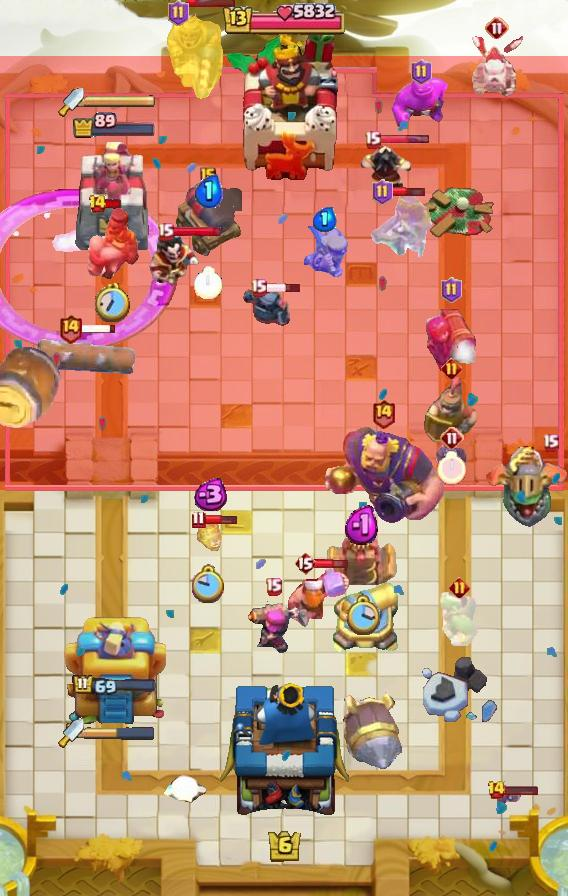arrows: (303, 225, 350, 279)
bar: (62, 611, 166, 731), (73, 140, 155, 256)
barbarian-barrel: (435, 444, 469, 472), (497, 787, 523, 805)
barbarian-hut: (360, 190, 434, 258)
bat: (162, 773, 210, 803)
battle-ram: (242, 285, 294, 329)
clock: (221, 0, 347, 40)
dirt: (0, 344, 64, 430)
earthquake: (424, 377, 478, 445)
electro-spirit: (343, 506, 381, 547), (189, 477, 229, 510), (193, 174, 222, 208), (313, 208, 337, 233)
elite-barbarian: (82, 206, 142, 280)
elixir: (344, 595, 380, 637), (94, 283, 130, 322), (192, 565, 226, 604), (438, 451, 467, 485), (193, 266, 222, 298)
emote: (170, 226, 221, 239), (378, 134, 430, 146), (390, 186, 426, 199), (314, 557, 350, 570), (265, 282, 303, 294), (202, 514, 238, 526), (503, 784, 539, 796), (79, 322, 116, 333), (186, 0, 236, 8), (104, 198, 123, 210)
flying-machine: (437, 590, 481, 646)
goblin-brawler: (327, 520, 397, 588)
ice-spirit-evolution: (193, 517, 225, 553)
king-tower: (219, 678, 349, 826), (224, 23, 344, 181)
king-tower-bar: (84, 95, 156, 109), (84, 726, 156, 740)
knight-evolution: (0, 188, 178, 351)
lightning: (321, 427, 446, 525)
lumberjack: (359, 143, 413, 195), (149, 235, 201, 289)
mega-minion: (422, 295, 480, 375)
mighty-miner: (286, 566, 350, 630)
mini-pekka: (468, 32, 526, 100)
minion: (35, 334, 137, 378)
night-witch: (482, 445, 568, 529)
ram-rider: (165, 0, 225, 102)
royal-giant-evolution: (174, 182, 242, 256)
royal-recruit: (330, 575, 402, 657)
selected: (71, 112, 156, 140), (71, 674, 156, 698)
text: (57, 312, 82, 343), (371, 399, 396, 430), (485, 16, 509, 40), (440, 426, 464, 450), (167, 0, 188, 26), (412, 59, 433, 85), (371, 179, 392, 205), (442, 277, 463, 303), (294, 551, 316, 575), (449, 577, 470, 599), (442, 357, 463, 378), (88, 194, 107, 214), (486, 780, 505, 800), (541, 433, 559, 452), (158, 223, 175, 242), (249, 279, 266, 298), (364, 131, 381, 149), (265, 577, 282, 595), (200, 167, 216, 185), (191, 511, 206, 529)
tombstone: (244, 601, 302, 655)
tornado: (389, 76, 453, 130)
x-bow: (342, 692, 412, 772)
